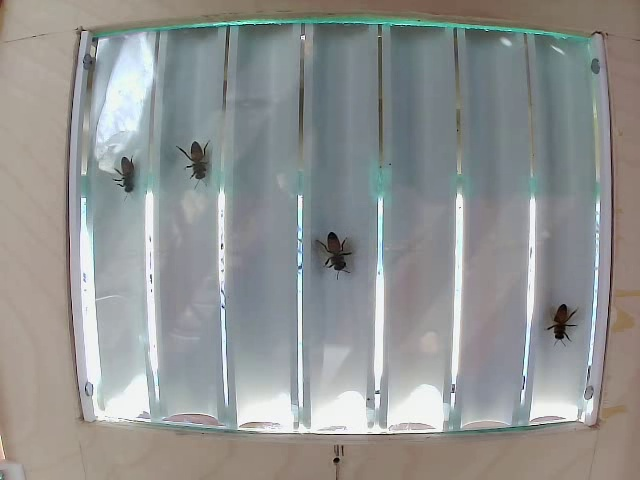bee: (311, 221, 368, 289), (180, 138, 231, 189), (105, 151, 155, 191), (554, 282, 578, 352)
